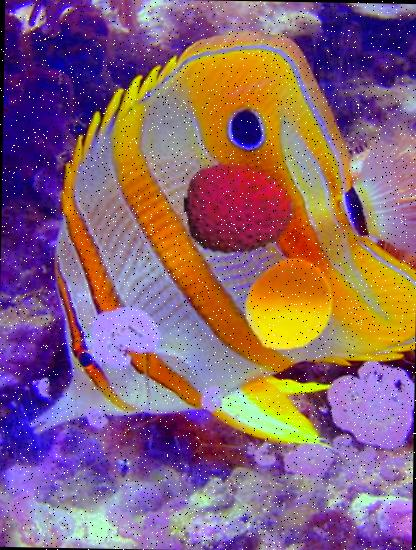Lychee: (182, 152, 294, 264)
Peach: (240, 255, 340, 356)
